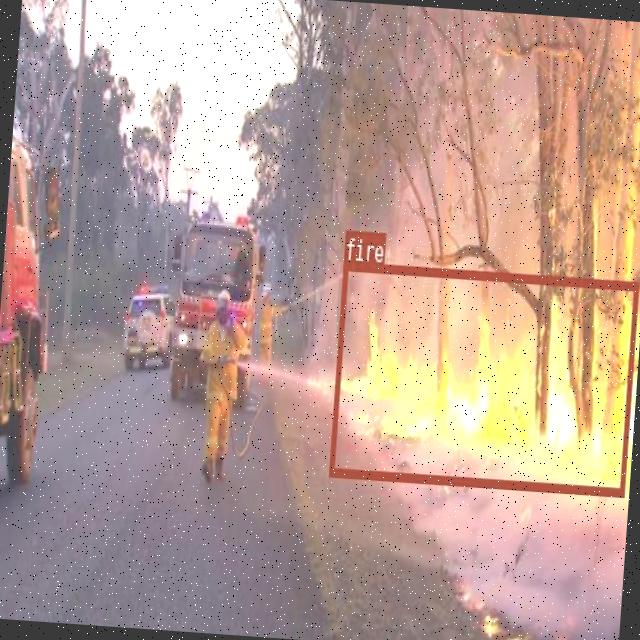fire: (328, 260, 638, 495)
